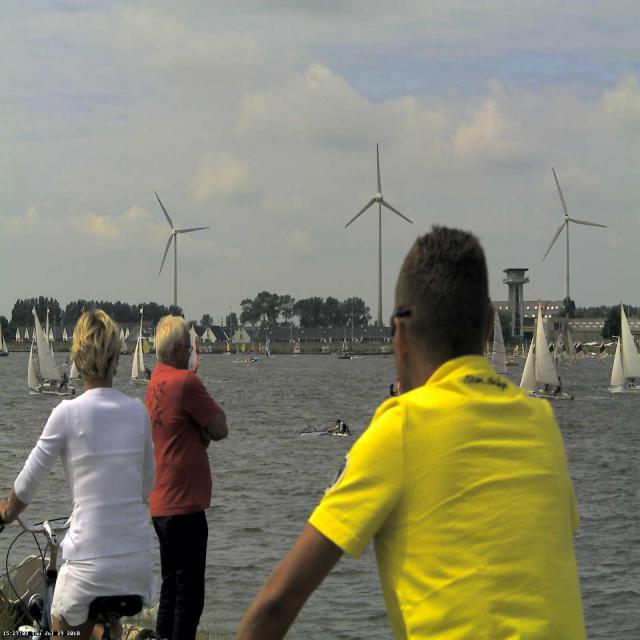other: (294, 367, 592, 621), (133, 354, 229, 525)
